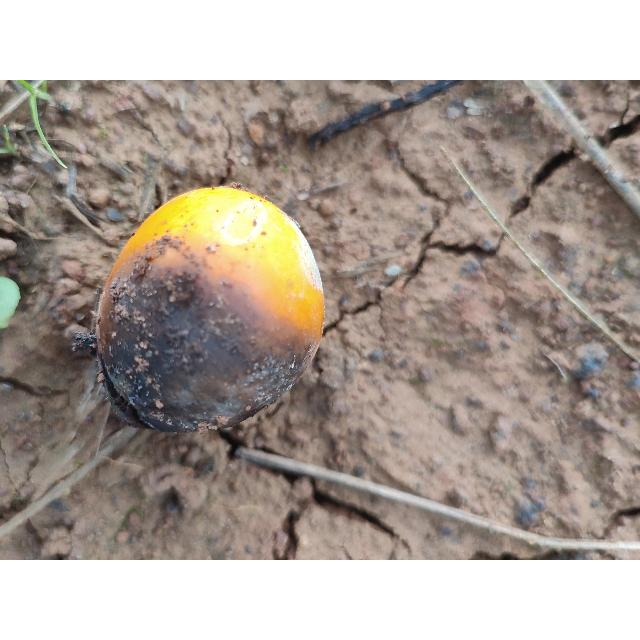damaged: (94, 187, 326, 435)
